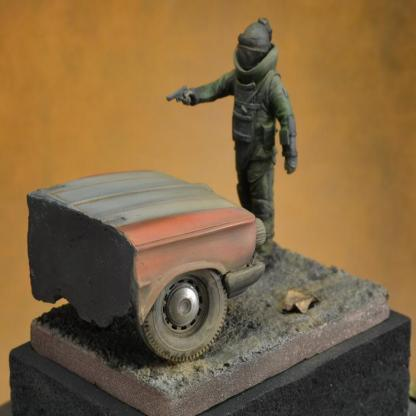Car: (29, 187, 269, 361)
